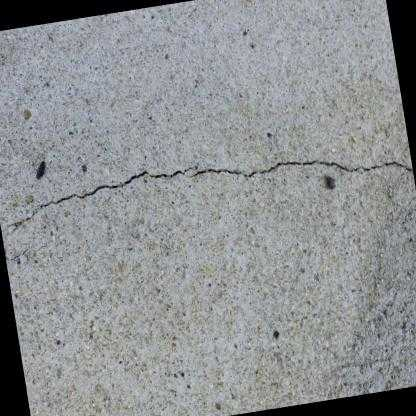crack: (14, 165, 193, 229), (192, 158, 413, 178)
